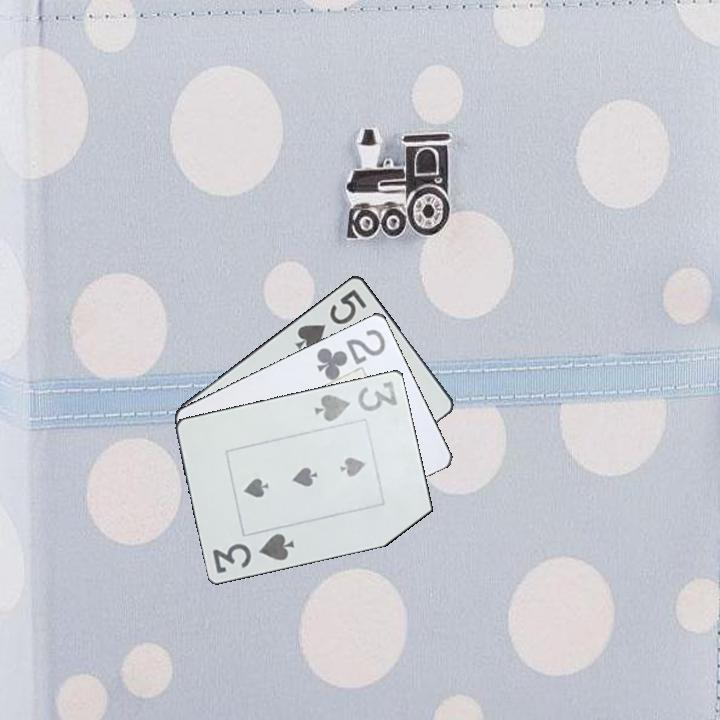2c: (313, 325, 389, 382)
3s: (311, 377, 401, 424), (209, 529, 298, 576)
5s: (292, 285, 370, 353)
